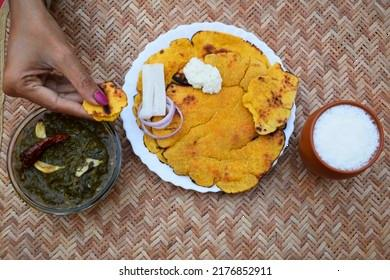saag: (18, 116, 115, 206)
